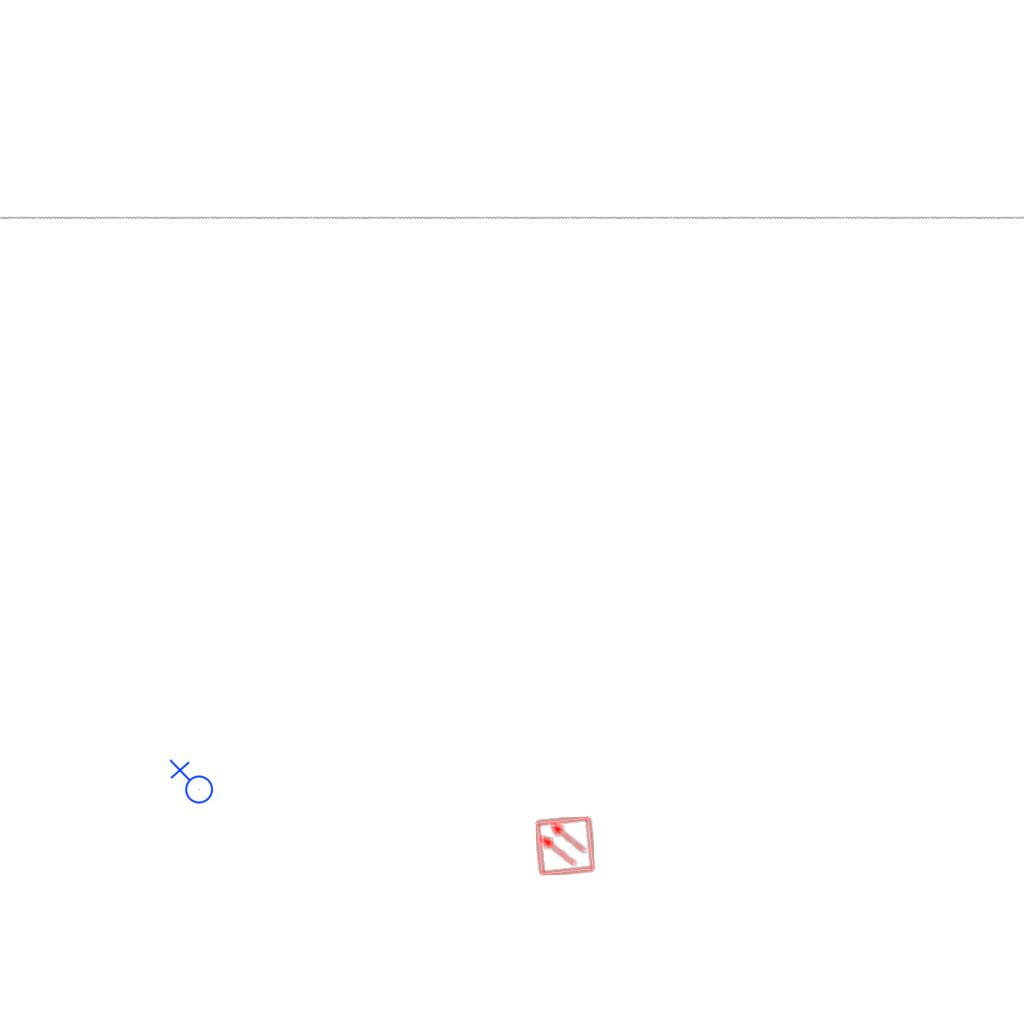Elektroanschluss_allgemein_230V_Geraeteanschlussdose_230V: (167, 759, 214, 808)
RMO_Rauchmelder_optischer: (534, 815, 596, 877)
